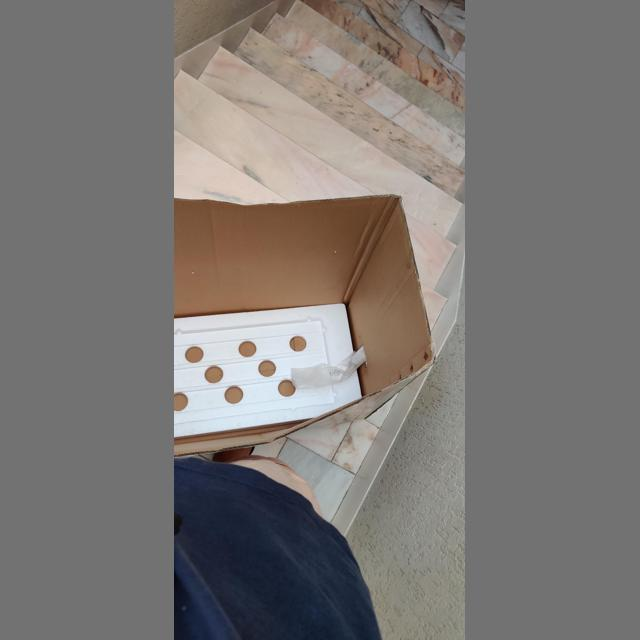litter: (174, 193, 437, 458), (174, 303, 363, 437)
